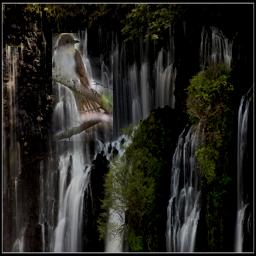Cuckoo: (52, 33, 113, 141)
